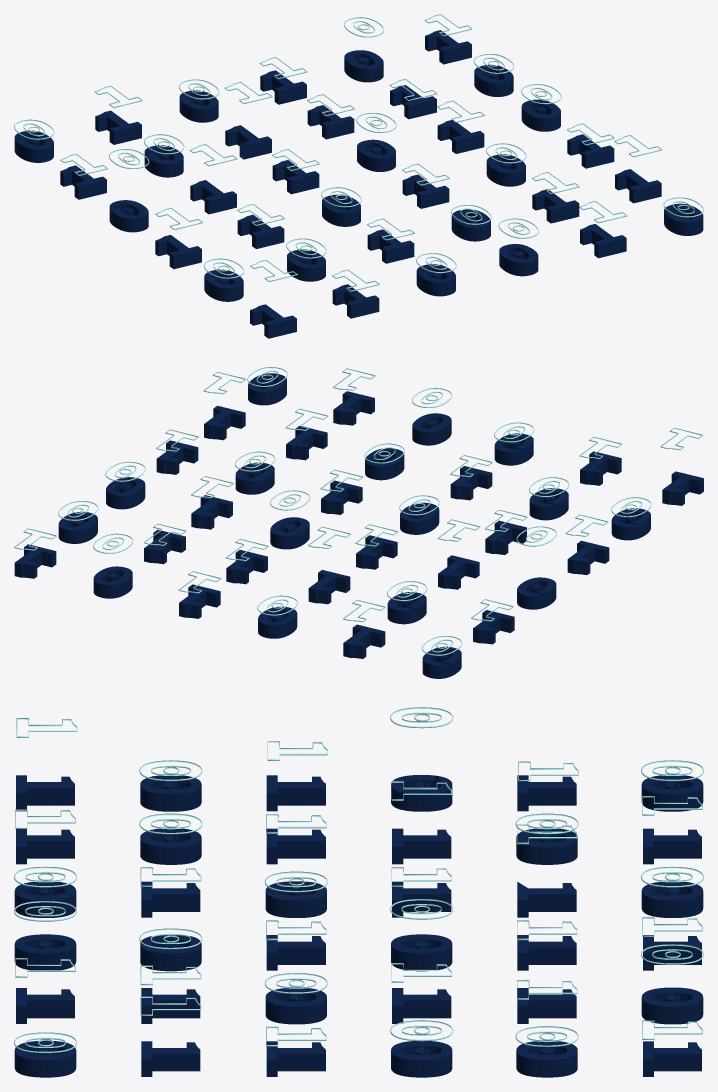
Rendered from Data03.gltf.
The picture shows the model from 3 angles, top to bottom: view 1: azimuth 30°, elevation 25°; view 2: azimuth 150°, elevation 25°; view 3: azimuth 270°, elevation 25°; orthographic projection. The views are drawn at different scales.
Parts seen in each view (by area): view 1: Curve.067, Curve.068, Curve.059, Curve.063, Curve.065, Curve.070, Curve.057, Curve.071, Curve.064, Curve.058, Curve.069, Curve.066 (+24 smaller); view 2: Curve.063, Curve.059, Curve.068, Curve.067, Curve.065, Curve.064, Curve.058, Curve.070, Curve.057, Curve.056, Curve.069, Curve.066 (+24 smaller); view 3: Curve.067, Curve.065, Curve.064, Curve.063, Curve.059, Curve.070, Curve.066, Curve.057, Curve.056, Curve.060, Curve.062, Curve.068 (+24 smaller).
Boxes of the visible parts, bbox=[...] form: Curve.067: bbox=[344, 50, 383, 82]; Curve.068: bbox=[109, 200, 148, 232]; Curve.059: bbox=[499, 244, 538, 276]; Curve.063: bbox=[357, 139, 395, 171]; Curve.065: bbox=[521, 99, 560, 131]; Curve.070: bbox=[179, 90, 218, 122]; Curve.057: bbox=[204, 269, 243, 301]; Curve.071: bbox=[14, 130, 53, 162]; Curve.064: bbox=[486, 154, 525, 186]; Curve.058: bbox=[416, 264, 455, 296]; Curve.069: bbox=[144, 145, 183, 177]; Curve.066: bbox=[474, 64, 513, 96]; Curve.063: bbox=[270, 517, 309, 549]; Curve.059: bbox=[412, 413, 451, 445]; Curve.068: bbox=[517, 577, 556, 609]; Curve.067: bbox=[93, 566, 132, 598]; Curve.065: bbox=[106, 477, 145, 509]; Curve.064: bbox=[235, 462, 274, 494]; Curve.058: bbox=[494, 433, 533, 465]; Curve.070: bbox=[258, 606, 297, 638]; Curve.057: bbox=[611, 508, 650, 540]; Curve.056: bbox=[529, 488, 568, 520]; Curve.069: bbox=[387, 592, 426, 624]; Curve.066: bbox=[58, 511, 97, 543]; Curve.067: bbox=[641, 987, 703, 1024]; Curve.065: bbox=[391, 1041, 452, 1077]; Curve.064: bbox=[265, 988, 326, 1024]; Curve.063: bbox=[391, 934, 452, 971]; Curve.059: bbox=[14, 934, 76, 970]; Curve.070: bbox=[641, 881, 703, 917]; Curve.066: bbox=[516, 1041, 577, 1077]; Curve.057: bbox=[140, 775, 201, 811]; Curve.056: bbox=[140, 828, 201, 864]; Curve.060: bbox=[14, 1040, 76, 1077]; Curve.062: bbox=[265, 881, 326, 917]; Curve.068: bbox=[391, 775, 452, 811].
Bounding box in the file's own units: 5.71 × 0.7925 × 5.82.
